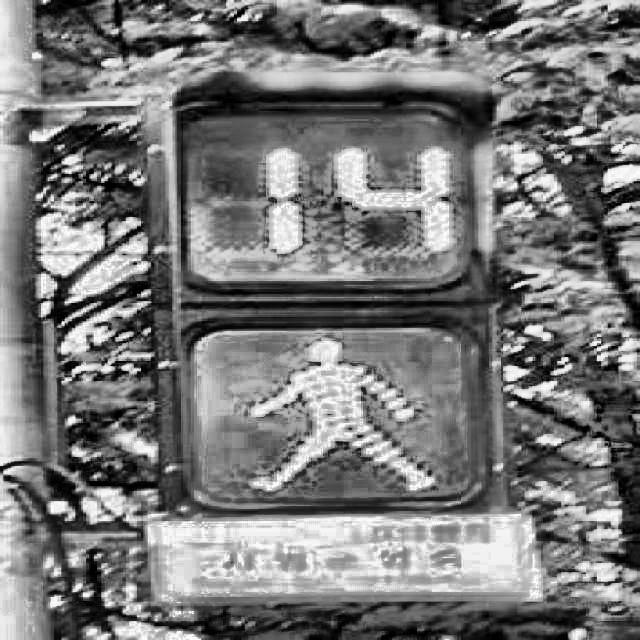semaforo pedestre: (77, 40, 580, 622)
